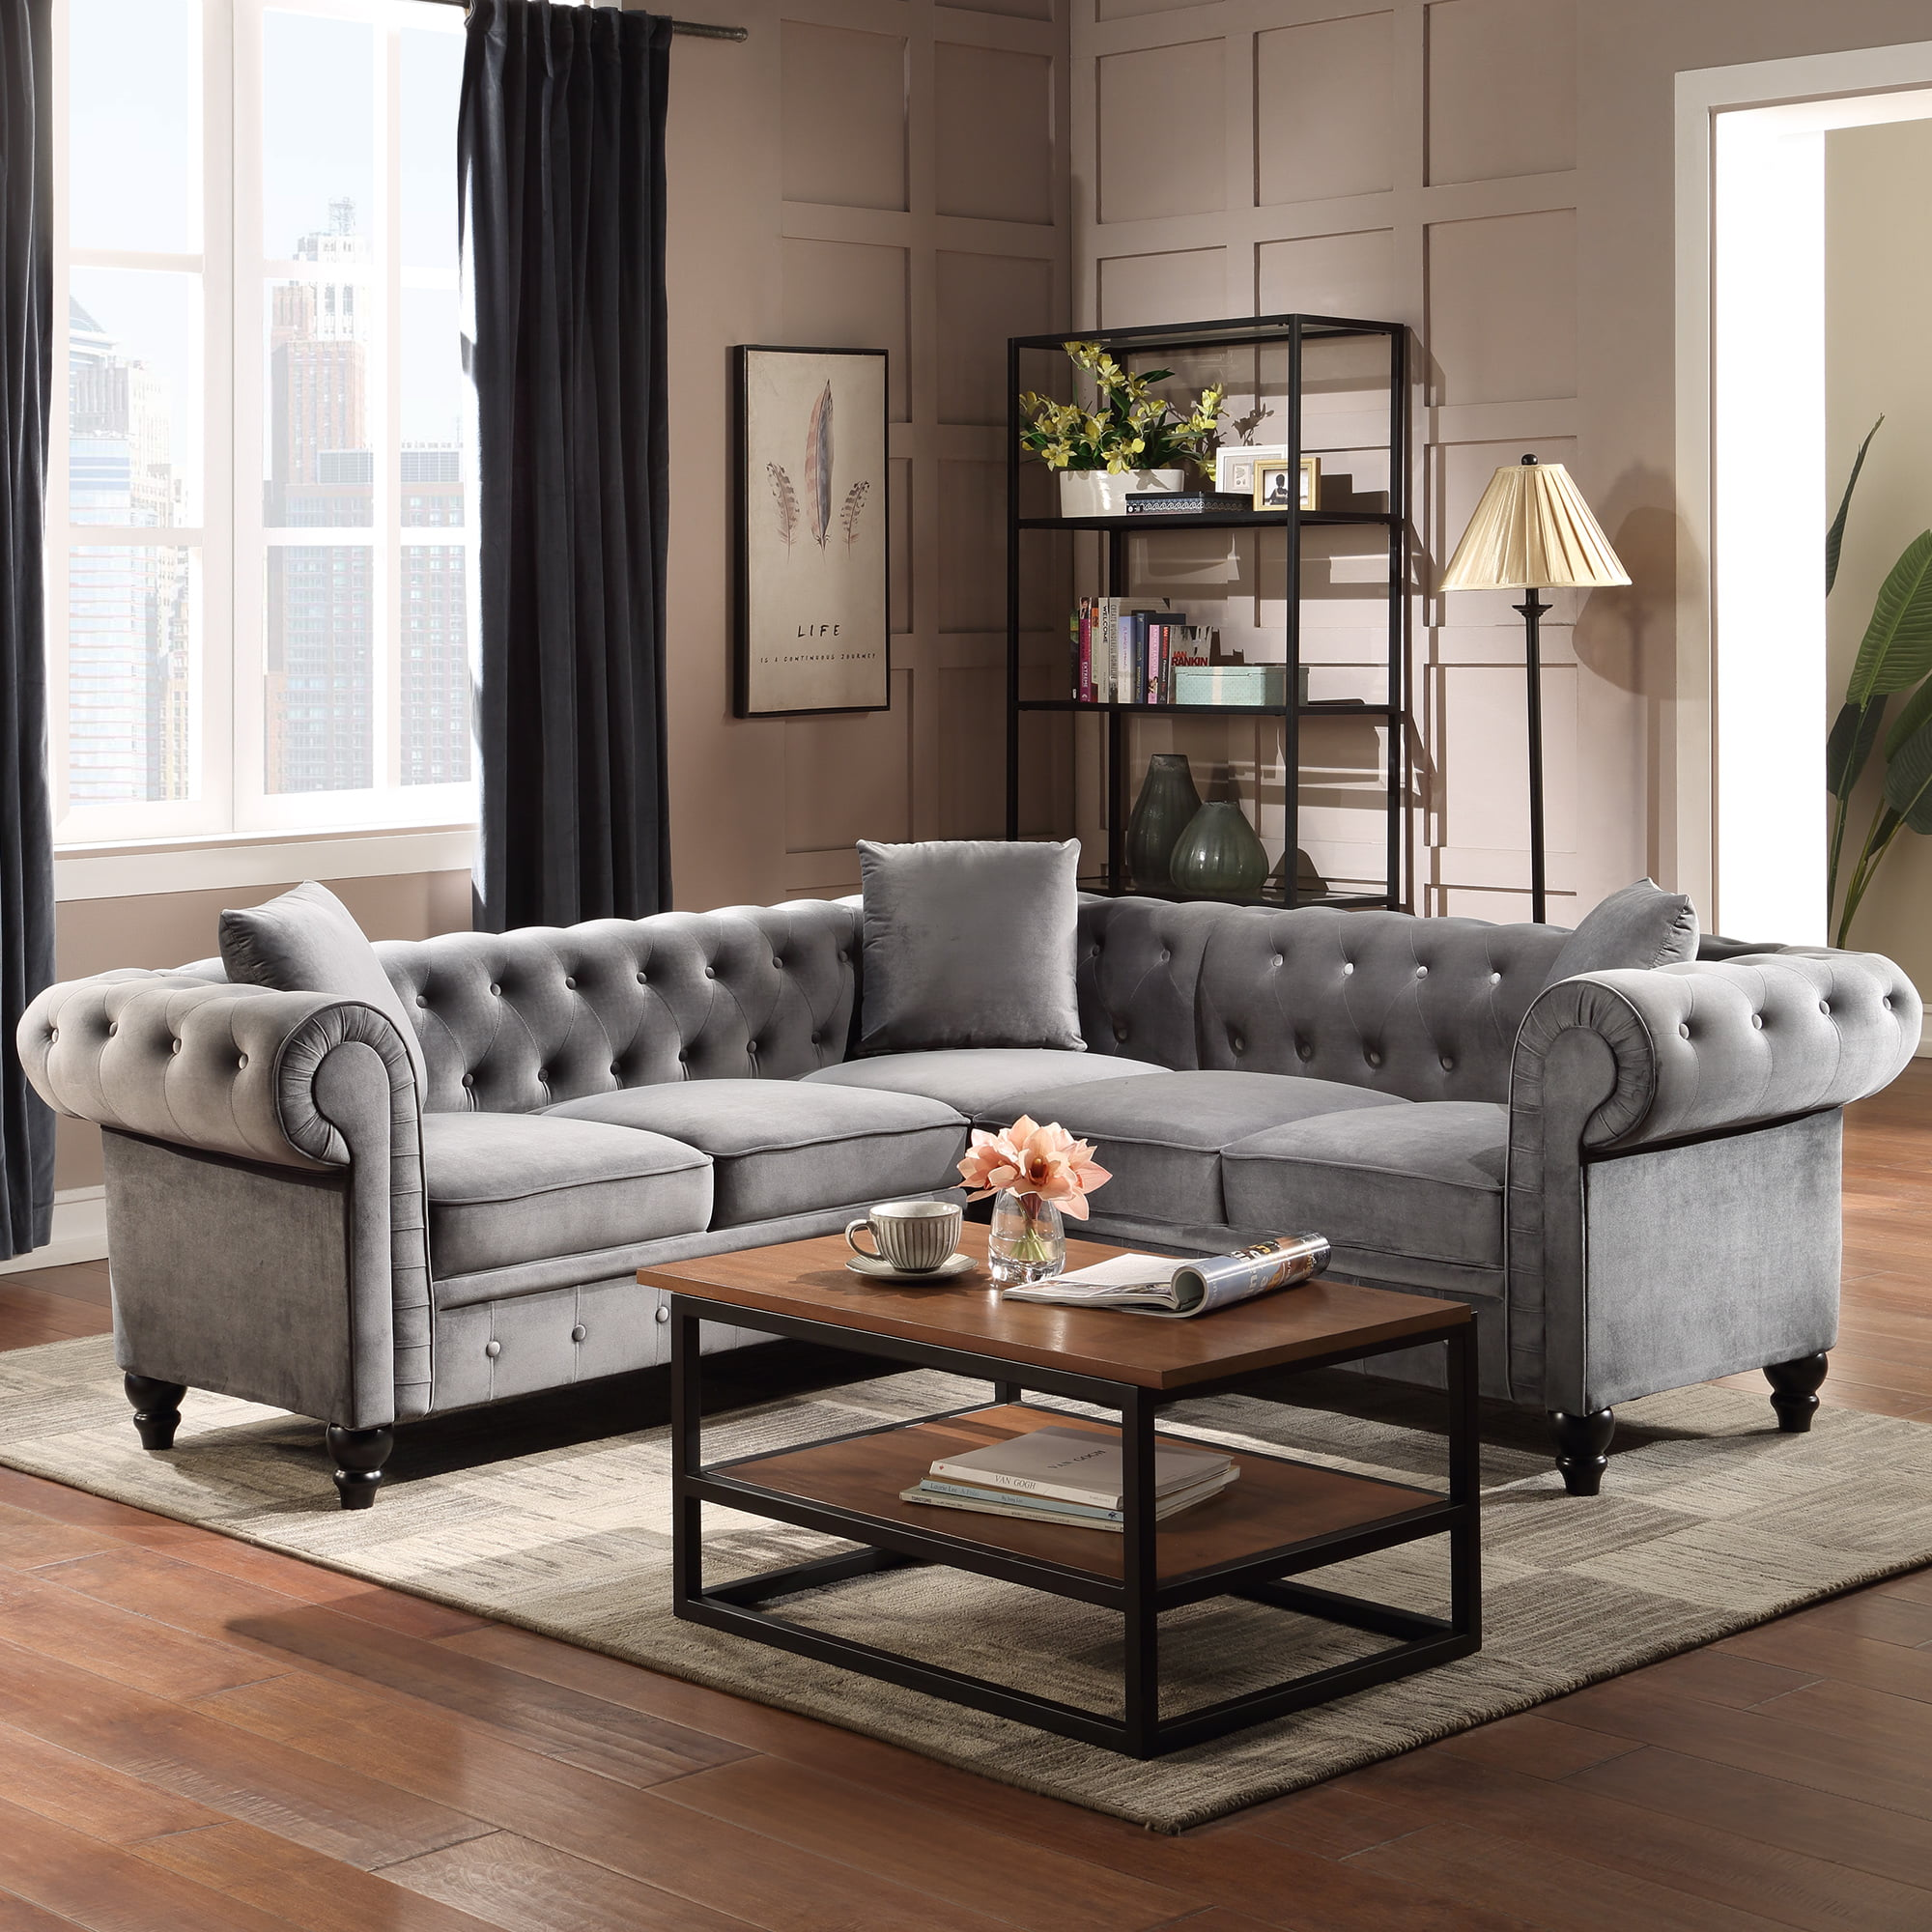sofa: (18, 842, 1927, 1513)
